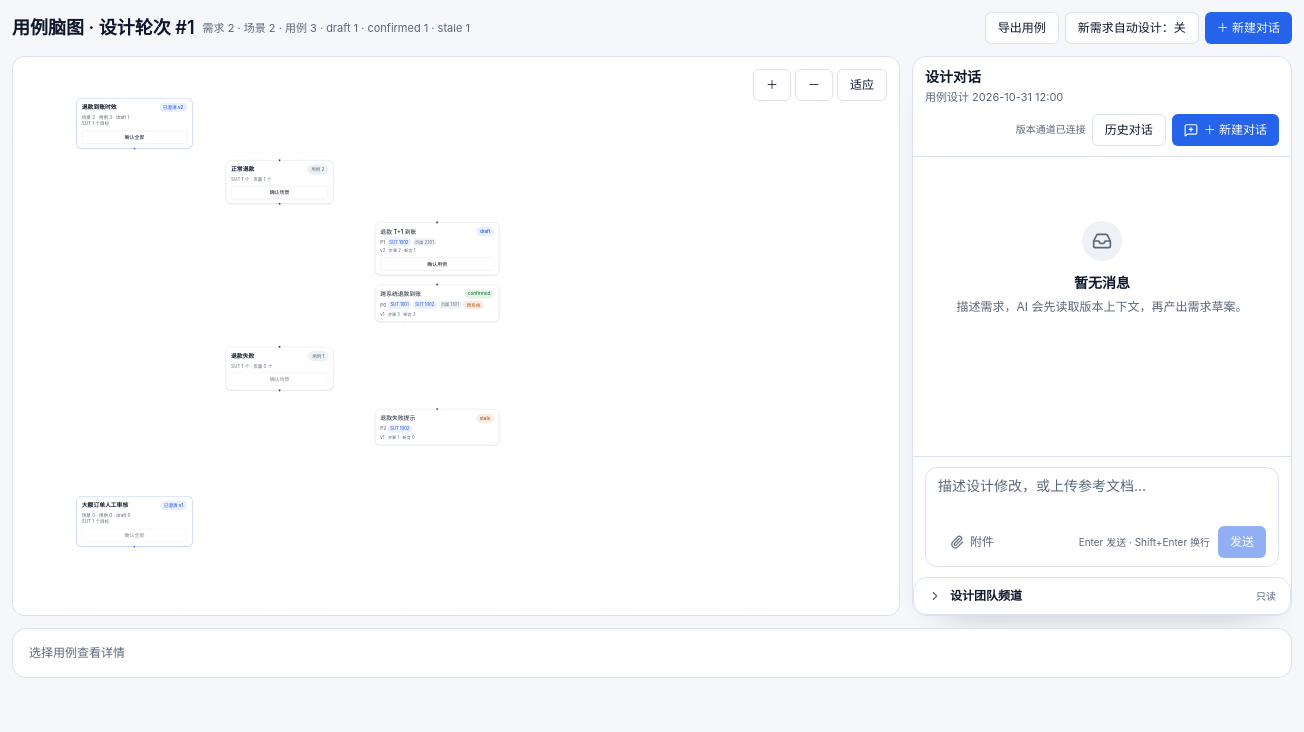
Test: DesignTab › creates a new design conversation from the toolbar
This screenshot has width=1304, height=732.
Check: the element with test id "design-mindmap" is shown, box [12,56,900,616]
Click the button with test id "design-new-conversation".
click(1248, 28)  # box [1205,12,1292,44]
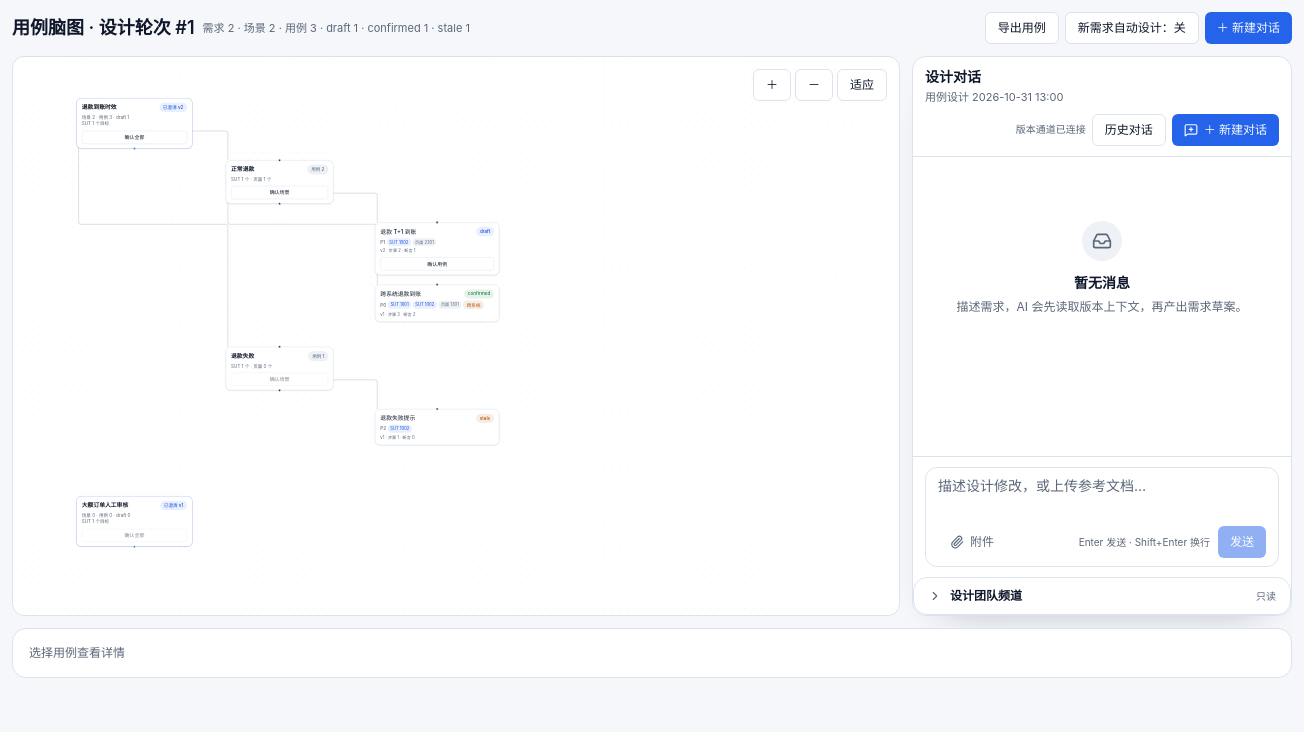
Check: the text "用例设计 2026-10-31 13:00" is shown, box [925,89,1063,106]
